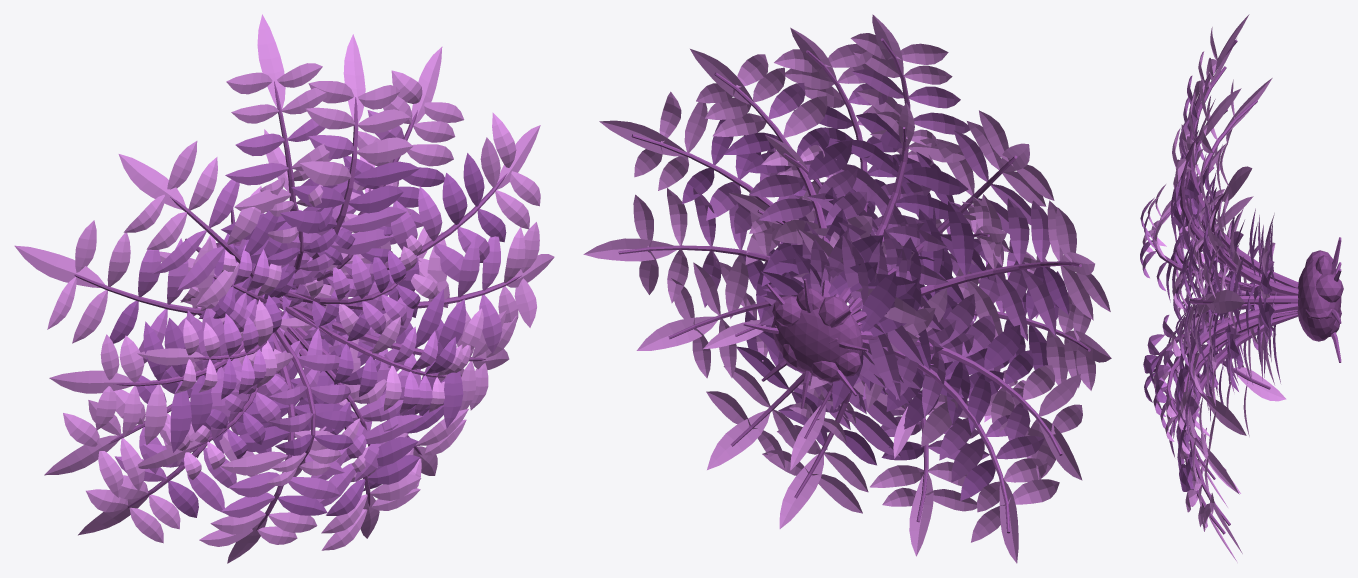
File: large_purple_alien_fern_v2.glb
3 views of the same model, side by side, from view 1: azimuth 30°, elevation 25°; view 2: azimuth 150°, elevation 25°; view 3: azimuth 270°, elevation 25° (orthographic). The views are drawn at different scales.
Parts seen in each view (by area): view 1: leaf_light, leaf_mid, leaf_dark, stem; view 2: leaf_light, leaf_mid, leaf_dark, stem, core; view 3: leaf_light, stem, leaf_dark, leaf_mid, core.
Boxes of the visible parts, box(x1,y1,x2,y2) form: leaf_light: box(14, 14, 554, 563); leaf_mid: box(114, 110, 502, 517); leaf_dark: box(109, 153, 506, 517); stem: box(74, 81, 521, 530); leaf_light: box(583, 14, 1111, 563); leaf_mid: box(693, 69, 1056, 482); leaf_dark: box(682, 106, 1069, 500); stem: box(618, 38, 1090, 533); core: box(771, 288, 862, 382); leaf_light: box(1142, 14, 1286, 562); stem: box(1152, 39, 1341, 534); leaf_dark: box(1140, 148, 1280, 491); leaf_mid: box(1140, 75, 1276, 464); core: box(1297, 250, 1343, 341).
Size of the model in its own units: 7.45 by 7.36 by 2.69.
